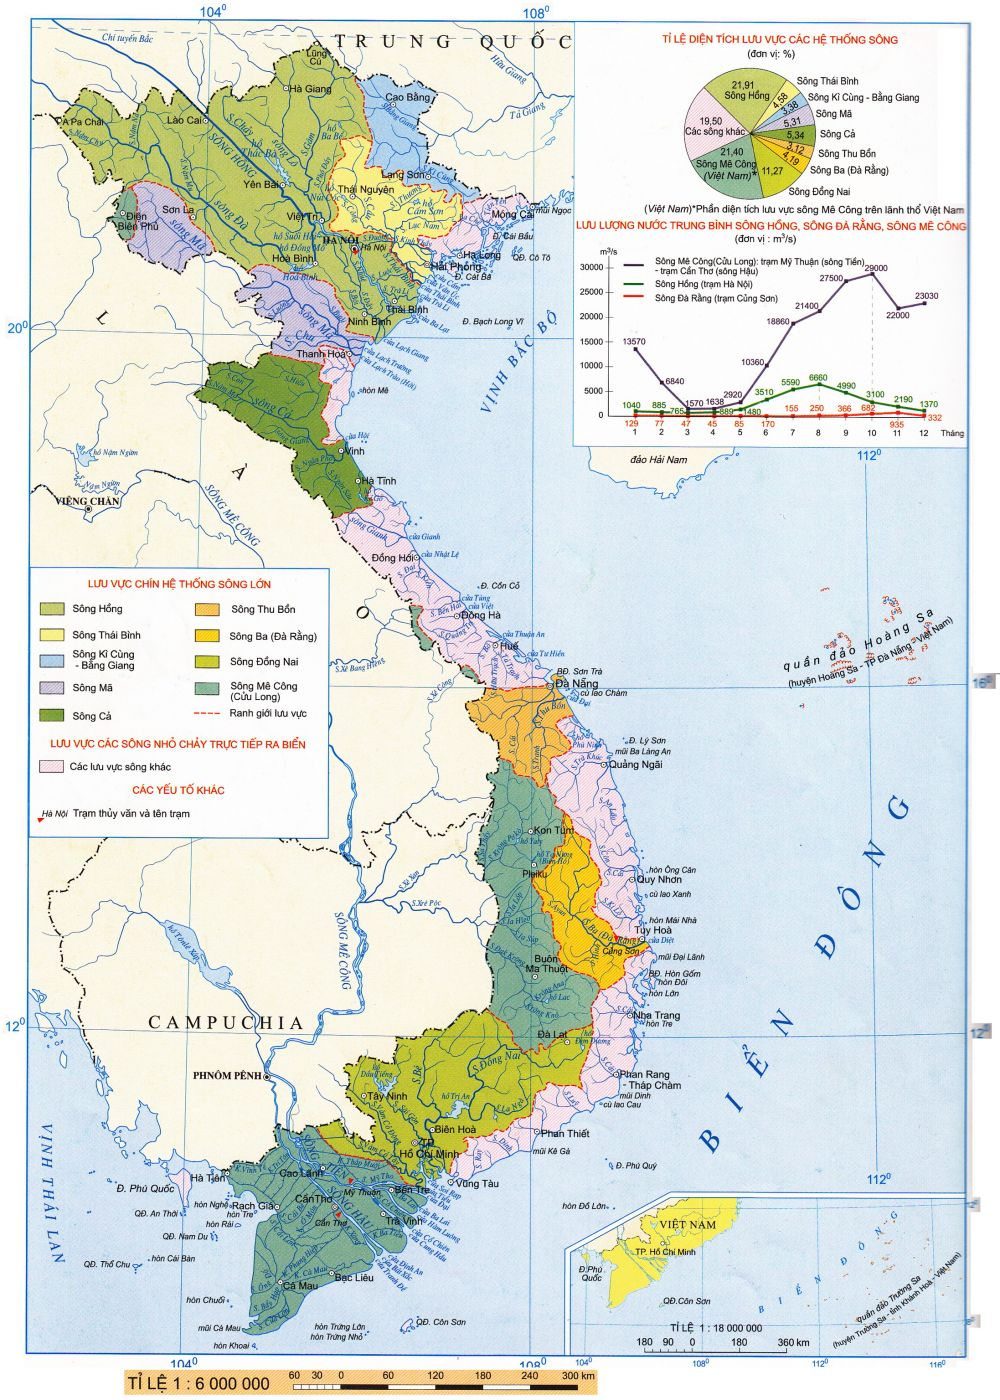Island: (762, 576, 957, 714), (842, 1246, 953, 1352)
